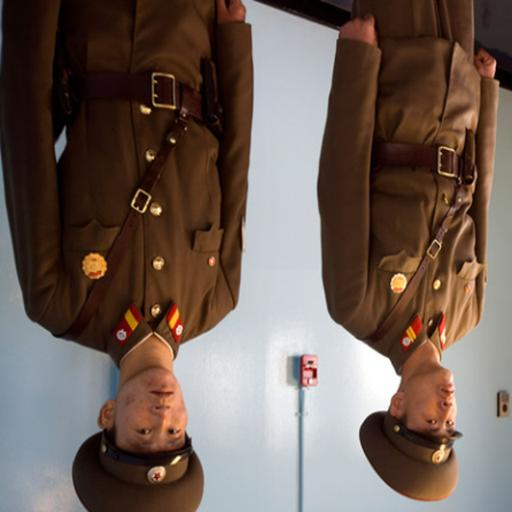north army: (1, 1, 265, 506), (301, 5, 512, 512)
